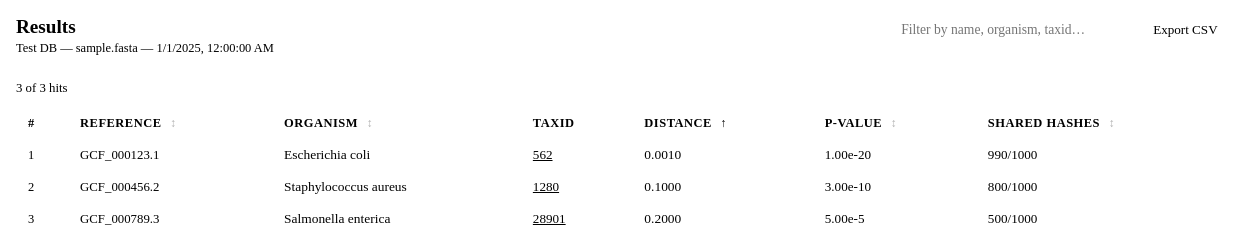
ResultsTable › filters results by search text
In the search field with placeholder "Filter by name, organism, taxid…": x=1009, y=30 [889,16,1129,45], type "Escherichia"
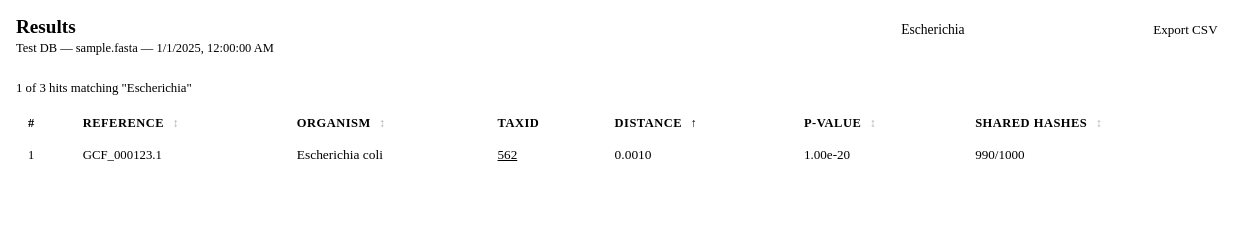
Result: the number of rows is 2 at [16,108,1232,140]; [16,140,1232,172]
